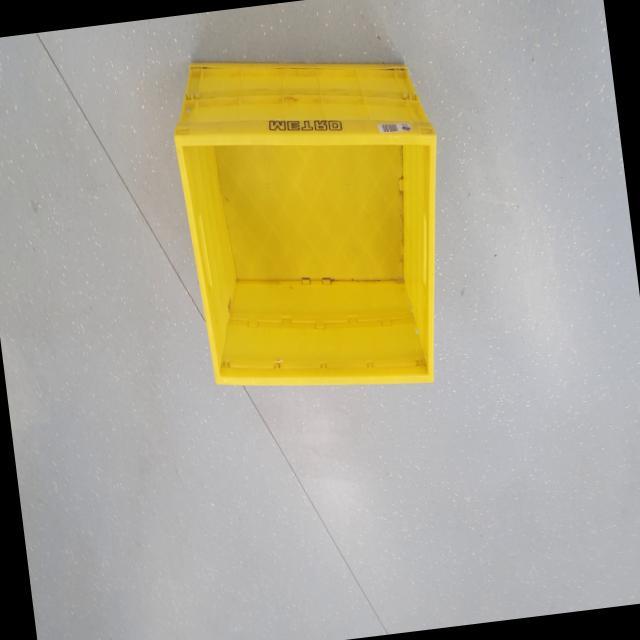box: (150, 28, 478, 415)
